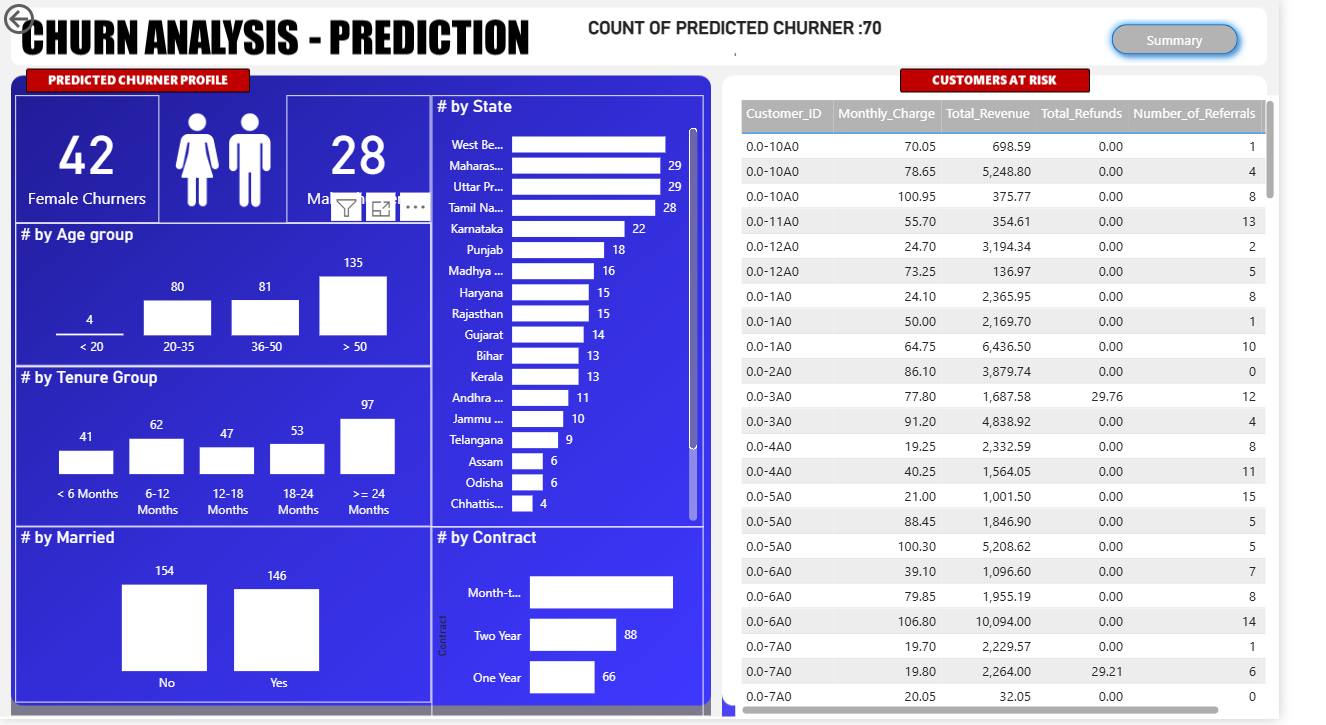

What the dashboard file says about the page in this screenshot:
{"tool":"powerbi","page":{"name":"Churn Prediction","canvas":[1280,720],"ordinal":2},"visuals":[{"type":"tableEx","fields":{"Values":["churn_dataset_predictions.Customer_ID","churn_dataset_predictions.Monthly_Charge","churn_dataset_predictions.Total_Revenue","churn_dataset_predictions.Total_Refunds","churn_dataset_predictions.Number_of_Referrals","churn_dataset_predictions.Gender"]},"box":[736,96,544,624],"z":0},{"type":"card","fields":{"Values":["Measure.Title Predicted Churner"]},"box":[496,16,480,48],"z":1000},{"type":"actionButton","box":[0,0,100,40],"z":2000},{"type":"card","fields":{"Values":["Measure.Predicted Churn Count"]},"box":[16,96,144,128],"z":3000},{"type":"card","fields":{"Values":["Measure.Predicted Churn Count"]},"box":[288,96,144,128],"z":4000},{"type":"clusteredColumnChart","fields":{"Category":["Mapping age.Age group"],"Y":["CountNonNull(churn_dataset_predictions.Customer_ID)"]},"box":[16,224,416,144],"z":5000},{"type":"clusteredColumnChart","fields":{"Category":["churn_dataset_predictions.Married"],"Y":["CountNonNull(churn_dataset_predictions.Customer_ID)"]},"box":[16,528,416,176],"z":6000},{"type":"clusteredColumnChart","fields":{"Y":["CountNonNull(churn_dataset_predictions.Customer_ID)"],"Category":["Mapping Tenure.Tenure Group"]},"box":[16,368,416,160],"z":7000},{"type":"clusteredBarChart","fields":{"Category":["churn_dataset_predictions.Contract"],"Y":["CountNonNull(churn_dataset_predictions.Customer_ID)"]},"box":[432,528,272,192],"z":8000},{"type":"clusteredBarChart","fields":{"Y":["CountNonNull(churn_dataset_predictions.Customer_ID)"],"Category":["churn_dataset_predictions.State"]},"box":[432,96,272,432],"z":9000},{"type":"image","box":[160,96,128,128],"z":9001},{"type":"shape","box":[1104,16,144,48],"z":9002}]}

Visuals, with their boxes in screenshot pixels (x1, y1, x2, y2), scaled from the page's 1280x720 canvas onto the 1326x725 screenshot:
tableEx - churn_dataset_predictions.Customer_ID x churn_dataset_predictions.Monthly_Charge: {"x1": 762, "y1": 97, "x2": 1325, "y2": 724}
card - Measure.Title Predicted Churner: {"x1": 514, "y1": 16, "x2": 1011, "y2": 64}
actionButton: {"x1": 0, "y1": 0, "x2": 104, "y2": 40}
card - Measure.Predicted Churn Count: {"x1": 17, "y1": 97, "x2": 166, "y2": 226}
card - Measure.Predicted Churn Count: {"x1": 298, "y1": 97, "x2": 448, "y2": 226}
clusteredColumnChart - Mapping age.Age group x CountNonNull(churn_dataset_predictions.Customer_ID): {"x1": 17, "y1": 226, "x2": 448, "y2": 371}
clusteredColumnChart - churn_dataset_predictions.Married x CountNonNull(churn_dataset_predictions.Customer_ID): {"x1": 17, "y1": 532, "x2": 448, "y2": 709}
clusteredColumnChart - CountNonNull(churn_dataset_predictions.Customer_ID) x Mapping Tenure.Tenure Group: {"x1": 17, "y1": 371, "x2": 448, "y2": 532}
clusteredBarChart - churn_dataset_predictions.Contract x CountNonNull(churn_dataset_predictions.Customer_ID): {"x1": 448, "y1": 532, "x2": 729, "y2": 724}
clusteredBarChart - CountNonNull(churn_dataset_predictions.Customer_ID) x churn_dataset_predictions.State: {"x1": 448, "y1": 97, "x2": 729, "y2": 532}
image: {"x1": 166, "y1": 97, "x2": 298, "y2": 226}
shape: {"x1": 1144, "y1": 16, "x2": 1293, "y2": 64}
